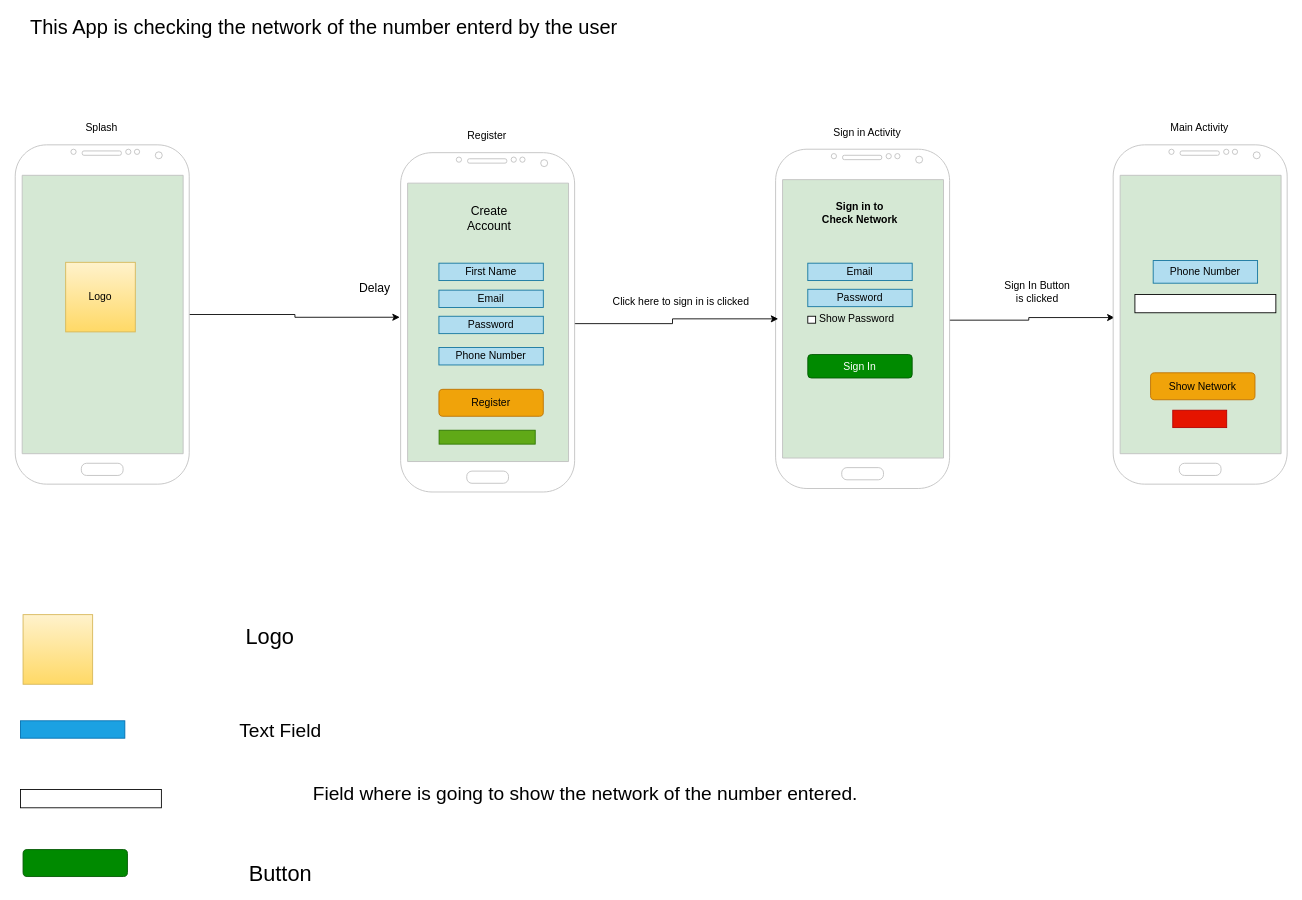
This 1302x900 diagram has some shape labels left out. The centre of each missing label's shape, as x and y in pixels:
Click here to sign in: (486,436)
Logout: (1199,418)
